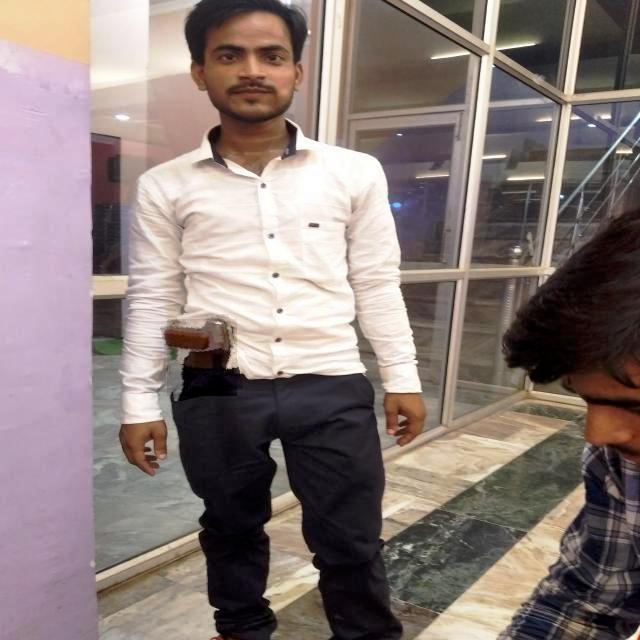Gun: (162, 308, 248, 382)
